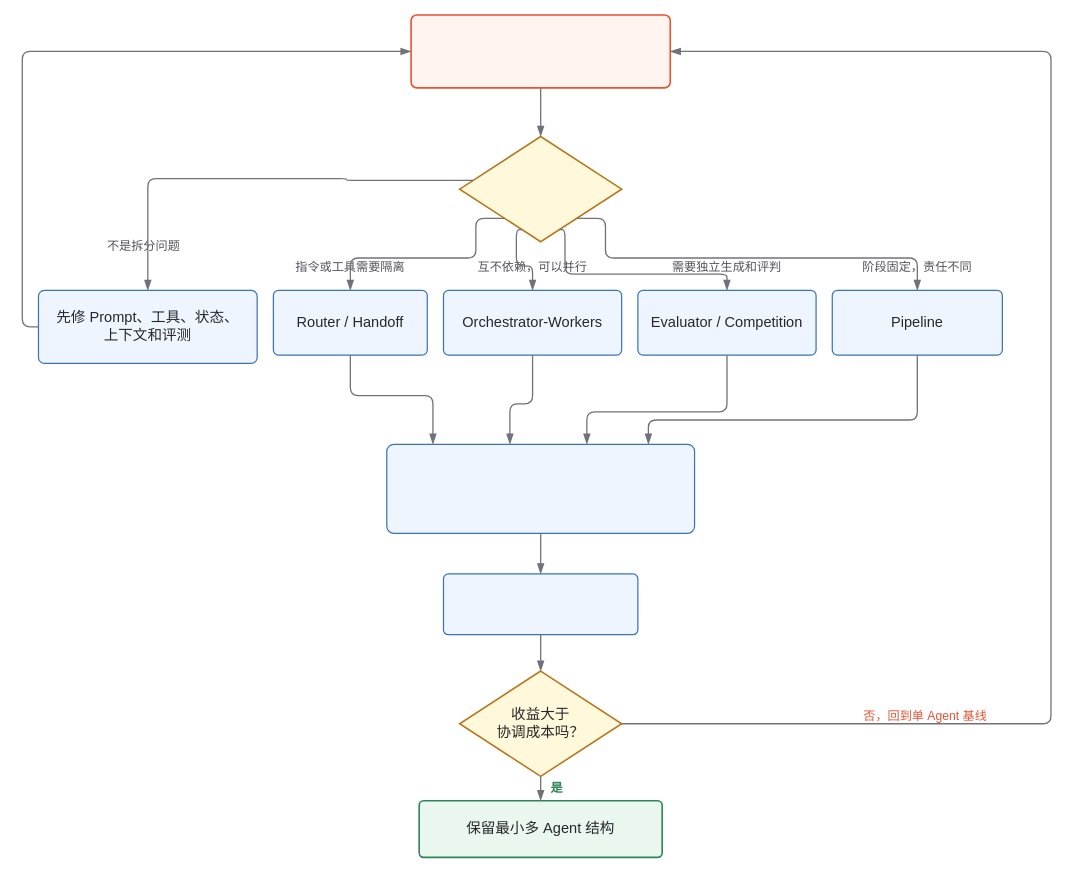
Some shapes in this 1075 by 872 pixel diagram are drawn without their labels. Each missing label, with the centre of its shape:
"与单 Agent 基线对比评测" goes at (540,604).
"为每个 Agent 约定 输入、输出、预算、权限和失败传递" goes at (540,488).
"先做好单 Agent 记录完成率、延迟、成本和失败" goes at (540,51).
"失败原因 真的需要拆分吗？" goes at (540,188).
